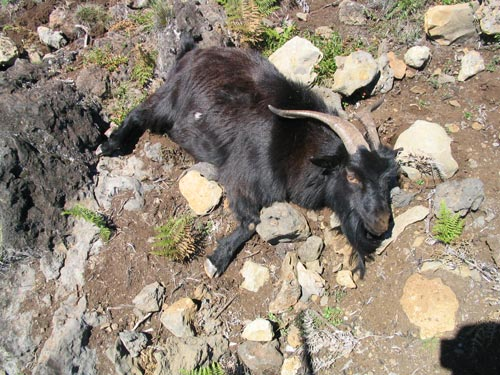goat: (94, 36, 402, 277)
